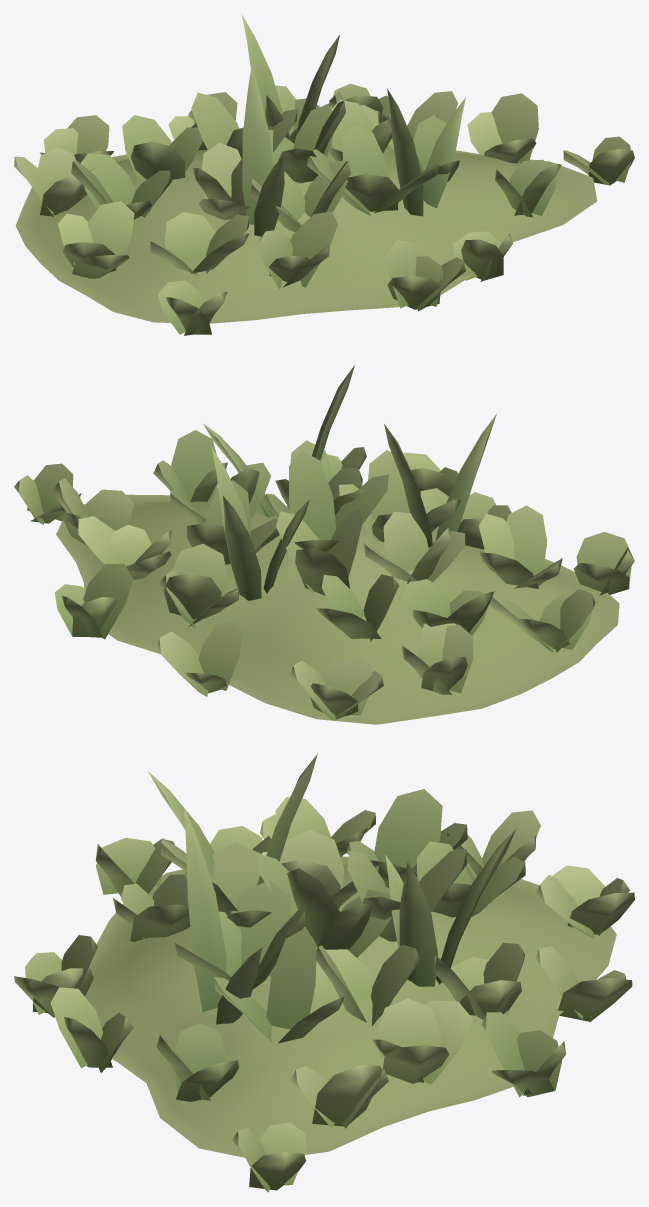
Rendered from patch_blob_a.glb.
3 renders of one model, top to bottom at view 1: azimuth 30°, elevation 25°; view 2: azimuth 150°, elevation 25°; view 3: azimuth 270°, elevation 25°, orthographic. The views are drawn at different scales.
Parts seen in each view (by area): view 1: Patch_Blob_A.001; view 2: Patch_Blob_A.001; view 3: Patch_Blob_A.001.
Boxes of the visible parts, bbox=[...] form: Patch_Blob_A.001: bbox=[14, 14, 634, 335]; Patch_Blob_A.001: bbox=[14, 365, 634, 724]; Patch_Blob_A.001: bbox=[14, 753, 634, 1192].
Bounding box in the file's own units: 0.9412 × 0.3069 × 0.7436.
